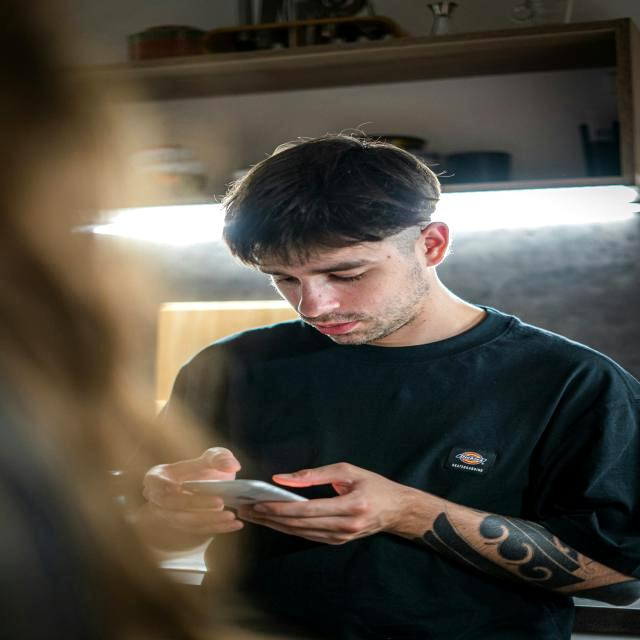no_head_wear: (222, 135, 440, 249)
person: (130, 134, 640, 640)
